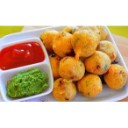bonda: (72, 30, 99, 55), (58, 59, 87, 81), (51, 78, 77, 101), (79, 74, 106, 96), (53, 32, 74, 57), (85, 55, 110, 74), (107, 66, 127, 89), (98, 40, 117, 60)
